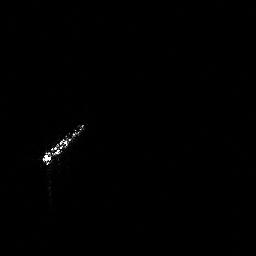ship: (37, 119, 90, 169)
